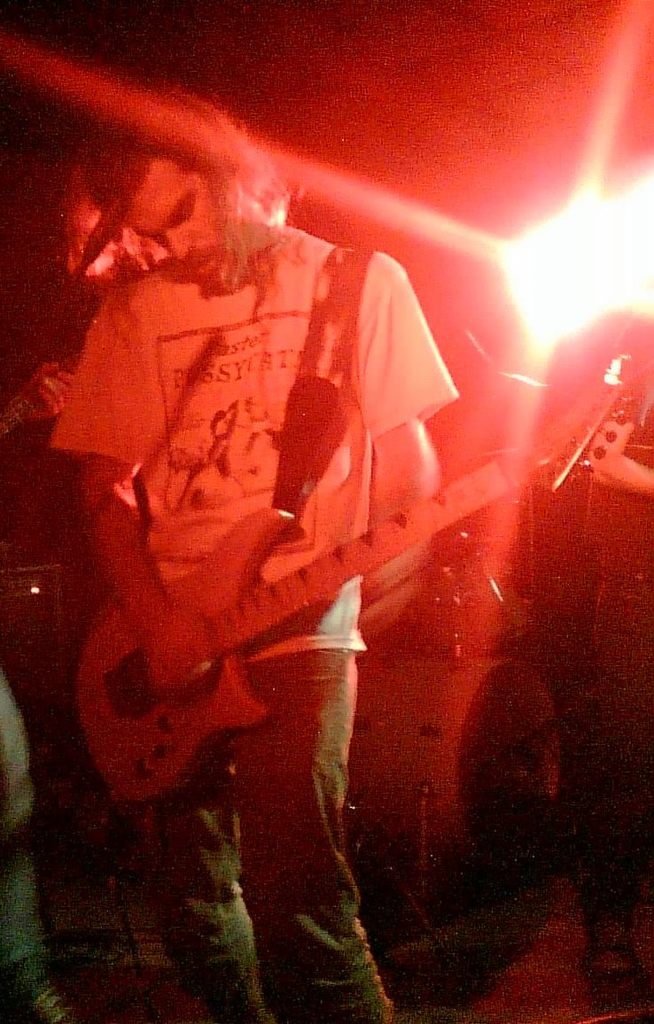Person: (47, 73, 458, 1024)
